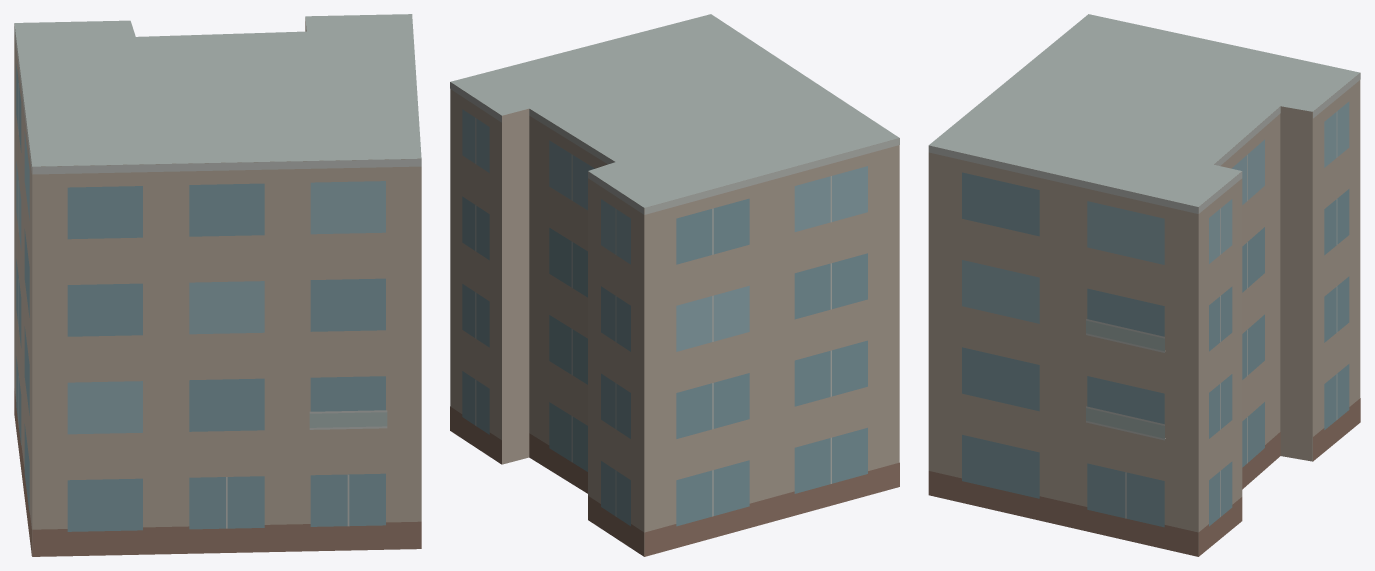
Rendered from survey-upis-32560314.glb.
3 renders of one model, left to right at view 1: azimuth 30°, elevation 25°; view 2: azimuth 150°, elevation 25°; view 3: azimuth 270°, elevation 25°, orthographic. The views are drawn at different scales.
Visible parts, largest first — view 1: survey-upis-32560314.tmp; view 2: survey-upis-32560314.tmp; view 3: survey-upis-32560314.tmp.
Part boxes in pixels (bbox=[...]): survey-upis-32560314.tmp: bbox=[14, 14, 421, 556]; survey-upis-32560314.tmp: bbox=[450, 14, 899, 556]; survey-upis-32560314.tmp: bbox=[928, 14, 1360, 556].
Size of the model in its own units: 14.33 by 12.1 by 13.55.
